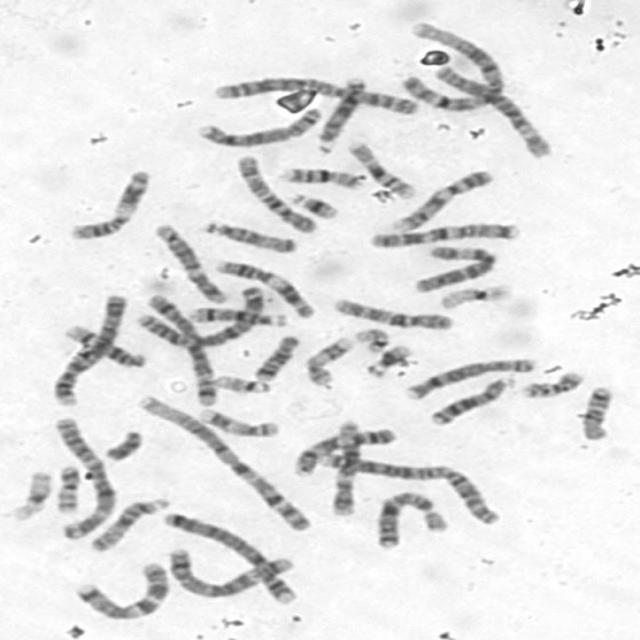A1: (133, 391, 315, 534), (397, 19, 508, 113)
A2: (316, 452, 504, 526), (209, 74, 423, 116)
A3: (49, 415, 118, 543), (132, 285, 267, 350)
B4: (160, 508, 298, 606), (48, 289, 130, 406)
B5: (142, 292, 218, 408), (162, 544, 299, 604)
C10: (232, 152, 318, 235), (329, 295, 455, 331)
C11: (210, 257, 315, 320), (65, 167, 153, 242)
C12: (150, 221, 228, 304), (328, 416, 363, 517)
C6: (431, 60, 555, 160), (411, 245, 499, 294)
C7: (72, 557, 172, 622), (363, 220, 519, 250)
C8: (401, 355, 539, 401), (191, 104, 325, 148)
C9: (387, 168, 495, 232), (292, 426, 397, 478)
D13: (425, 374, 517, 426), (313, 74, 367, 154)
D14: (62, 322, 146, 370), (185, 304, 288, 328)
D15: (86, 495, 171, 552), (201, 218, 299, 254)
E16: (344, 139, 417, 200), (278, 164, 365, 191)
E17: (194, 405, 283, 438), (301, 334, 355, 388)
E18: (250, 332, 300, 383), (578, 383, 615, 441)
F19: (7, 468, 53, 522), (436, 281, 514, 311)
F20: (517, 368, 586, 400), (53, 464, 84, 514)
G21: (361, 342, 414, 378), (287, 191, 340, 221)
G22: (210, 372, 274, 396), (353, 328, 392, 357)
X: (370, 492, 450, 548)
Y: (101, 427, 145, 462)
